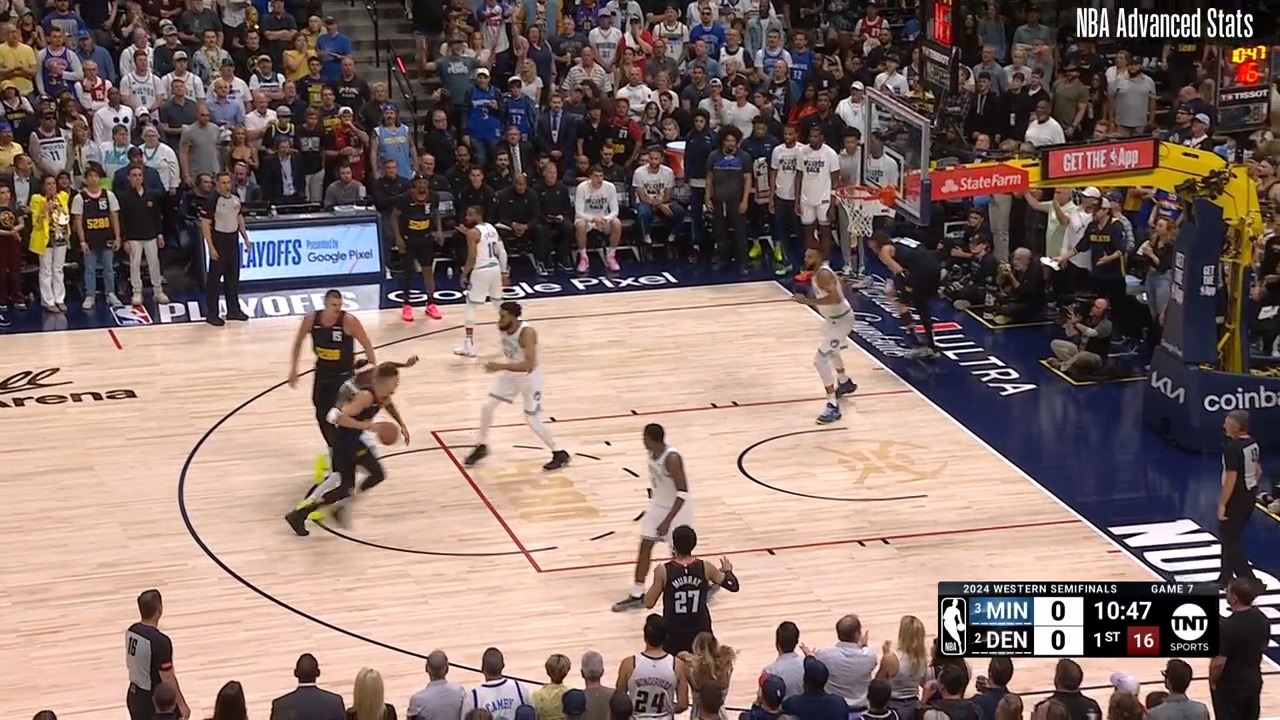basketball: (376, 421, 401, 446)
